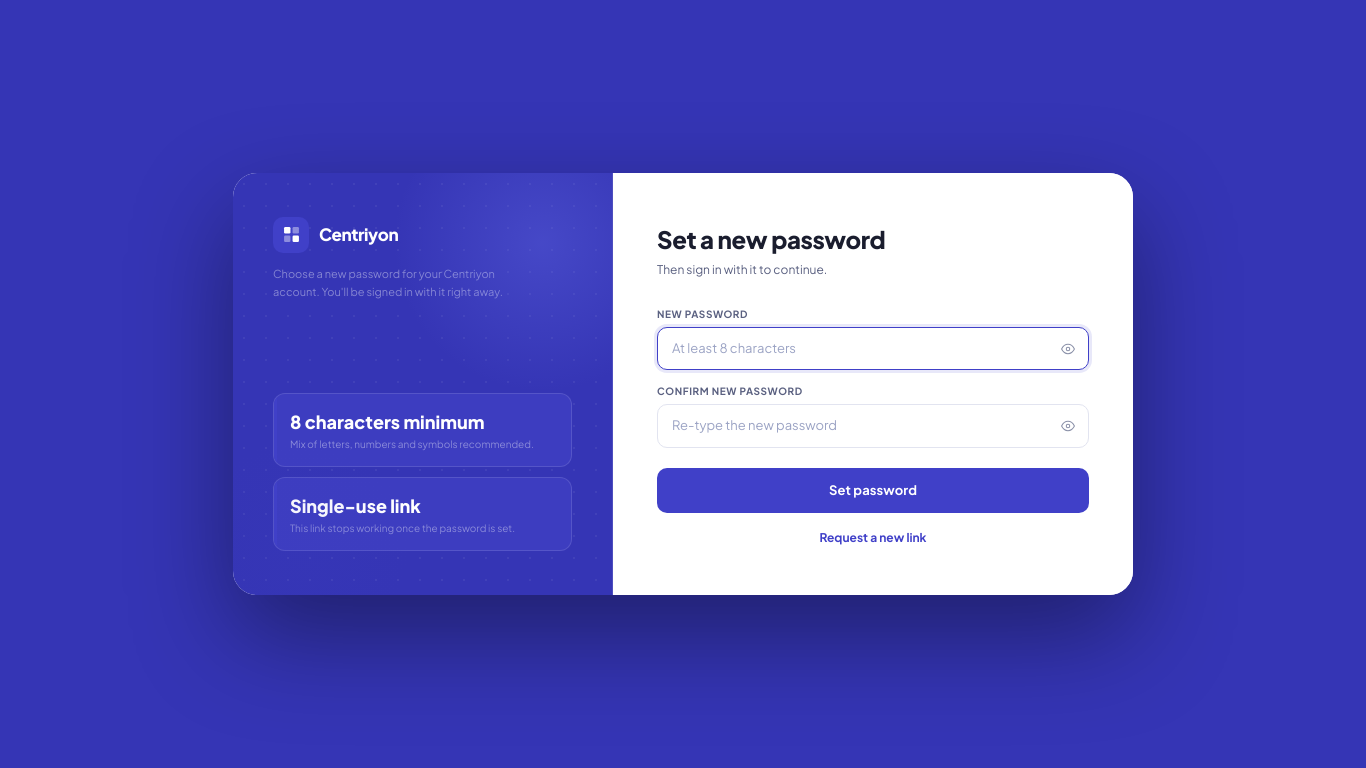
Test case: reset password › tells the user to request a fresh link when the token is spent
Type "correct-horse" into the password field with placeholder "At least 8 characters". click: (873, 349)
box: [657,327,1089,370]
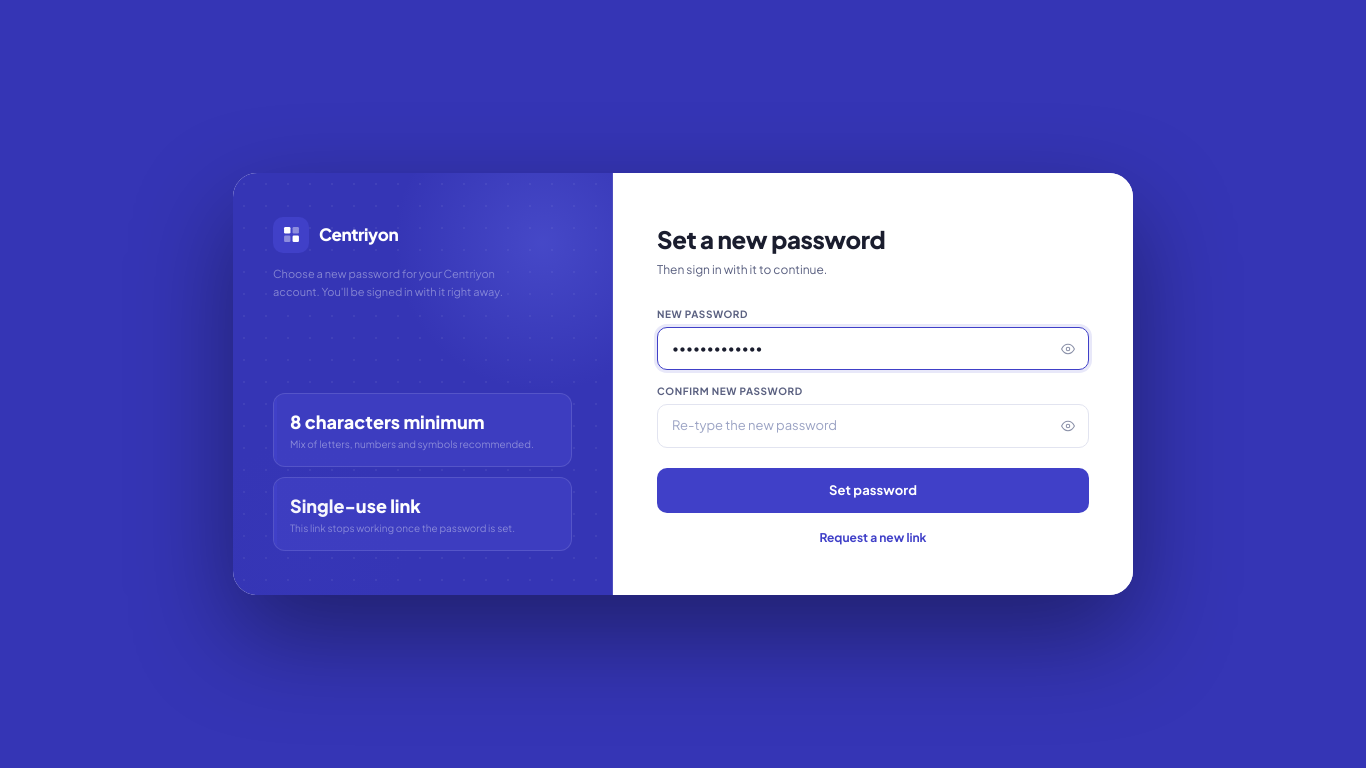
Type "correct-horse" into the password field with placeholder "Re-type the new password". click: (873, 426)
box: [657,404,1089,448]
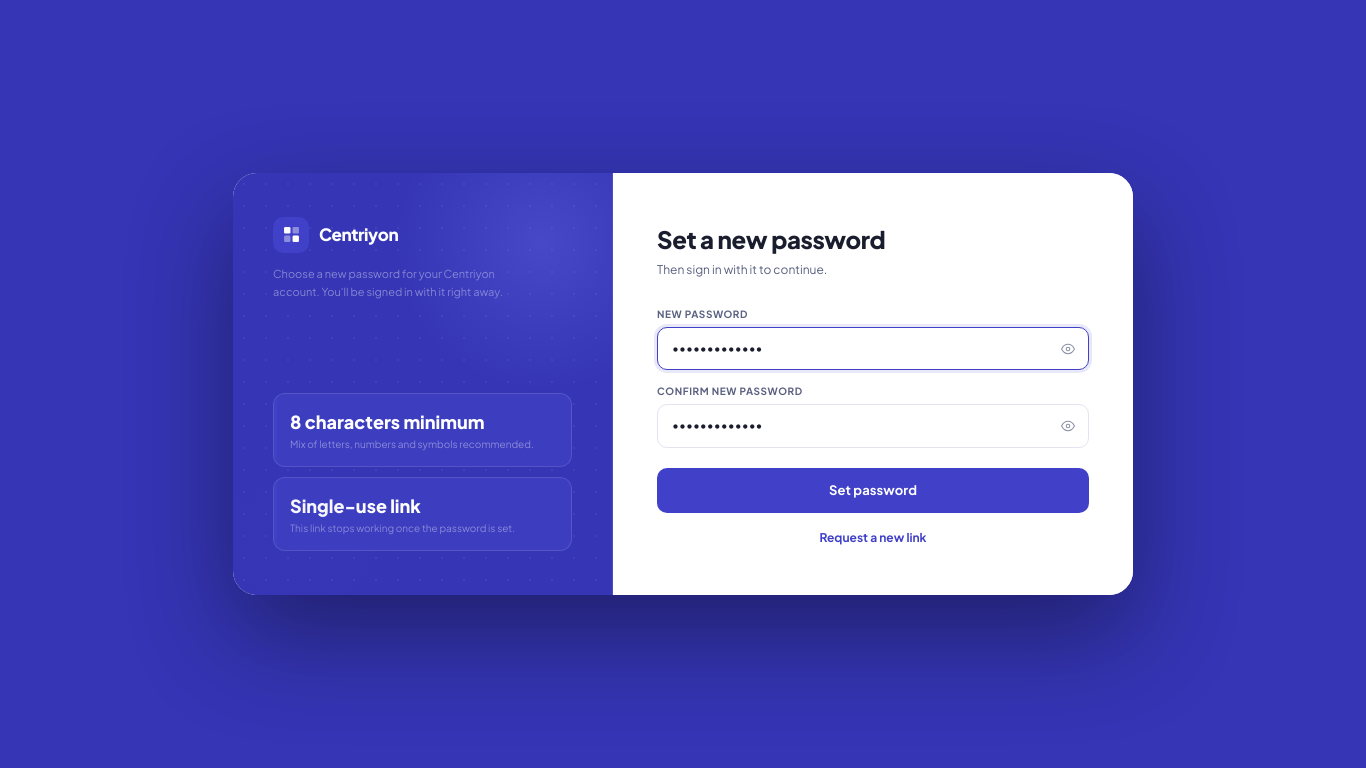
Click the button "Set password". click: (873, 491)
box: [657,468,1089,513]
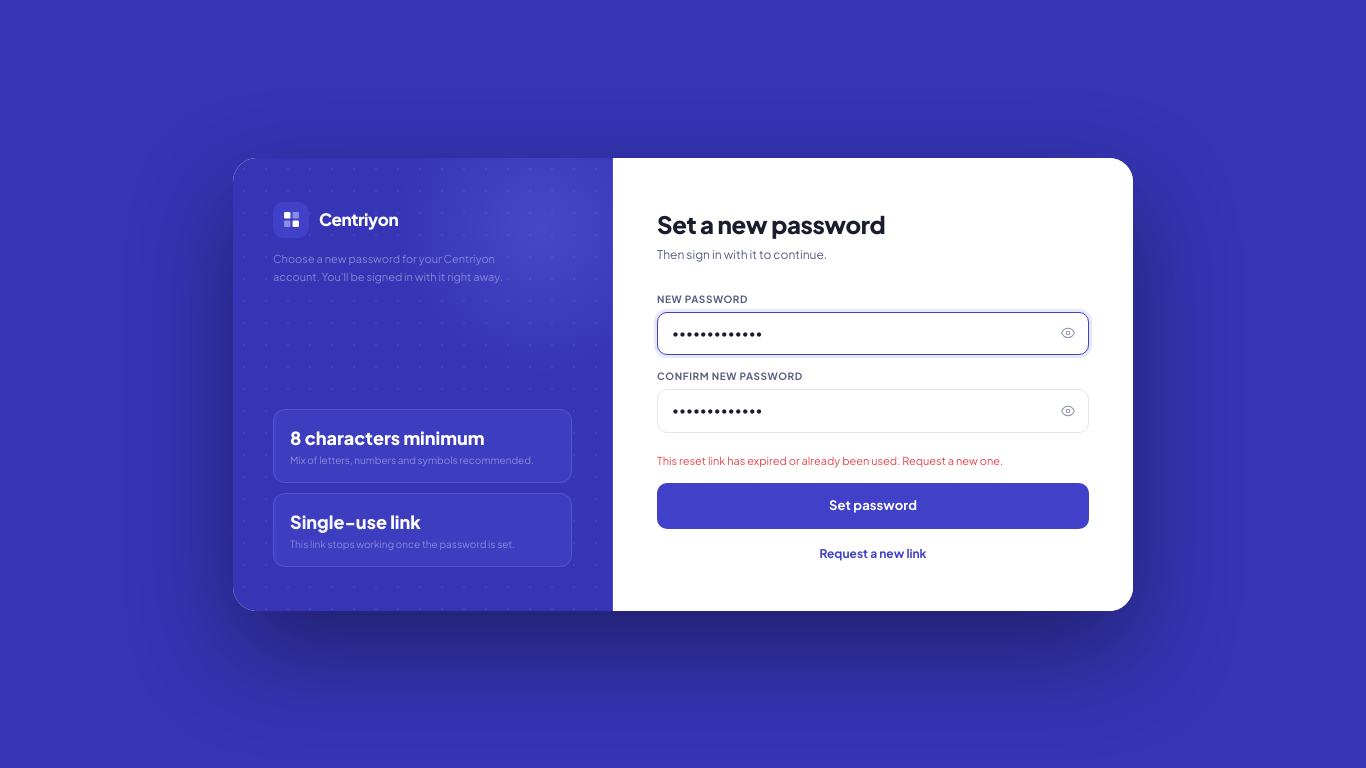
Check: the text "This reset link has expired or already been used. Request a new one." is shown, box [657,454,1003,466]
